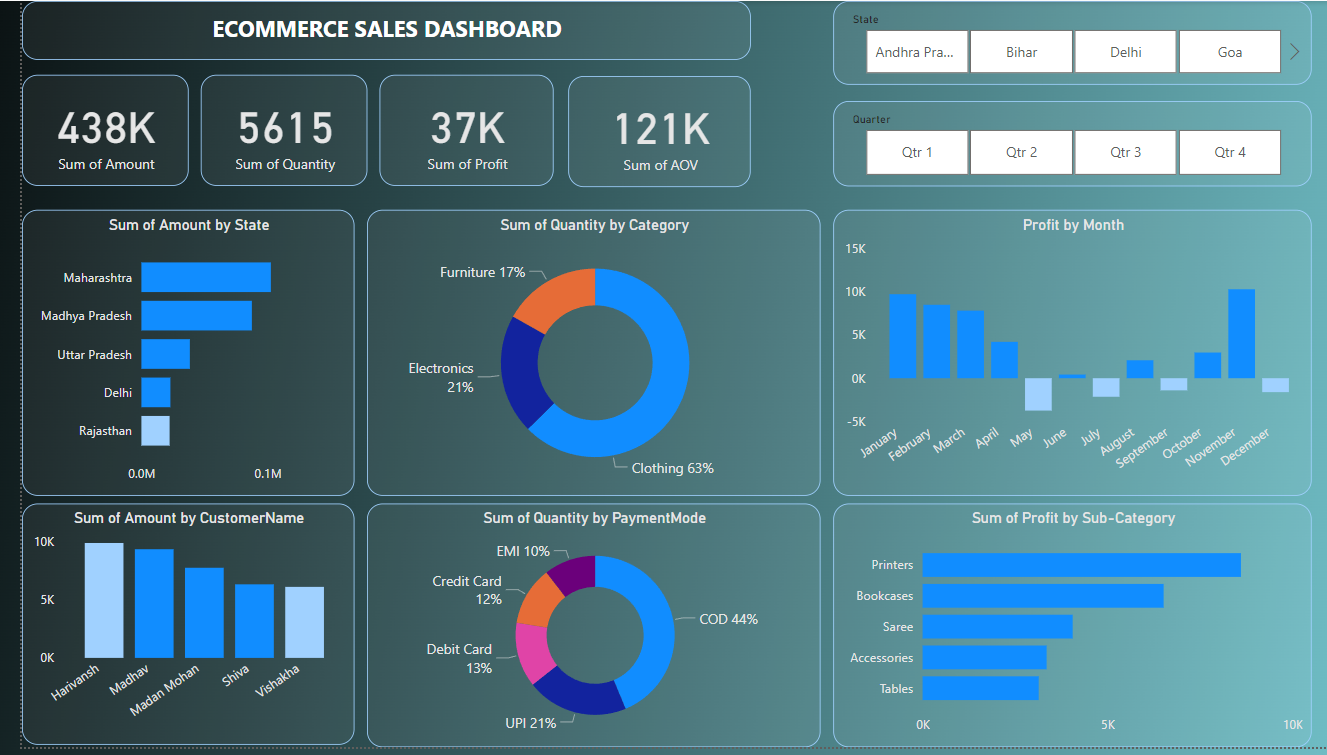

This screenshot's page, from the dashboard's own definition file:
{"tool":"powerbi","page":{"name":"Page 1","canvas":[1280,720],"ordinal":0},"visuals":[{"type":"textbox","box":[0,0,703.1,56.7],"z":0},{"type":"columnChart","title":"Profit by Month","fields":{"Y":["Details.Profit"],"Category":["Orders.Order Date.Variation.Date Hierarchy.Month"]},"box":[782.7,201.4,461.9,276.2],"z":1000},{"type":"barChart","fields":{"Category":["Details.Sub-Category"],"Y":["Details.Profit"]},"box":[782.7,484.8,461.9,235.2],"z":2000},{"type":"donutChart","fields":{"Category":["Details.Category"],"Y":["Details.Quantity"]},"box":[332.9,201.4,437.8,276.2],"z":3000},{"type":"donutChart","fields":{"Category":["Details.PaymentMode","Details.Category"],"Y":["Details.Quantity"]},"box":[332.9,484.8,437.8,235.2],"z":4000},{"type":"card","fields":{"Values":["Details.Amount"]},"box":[0,71.2,160.4,107.3],"z":5000},{"type":"card","fields":{"Values":["Details.Profit"]},"box":[344.9,71.2,167.6,107.3],"z":6000},{"type":"card","fields":{"Values":["Details.Quantity"]},"box":[172.5,71.2,160.4,107.3],"z":7000},{"type":"card","fields":{"Values":["Details.AOV"]},"box":[527,72.4,176.1,107.3],"z":8000},{"type":"barChart","fields":{"Category":["Orders.State"],"Y":["Details.Amount"]},"box":[0,201.4,320.8,276.2],"z":9000},{"type":"columnChart","fields":{"Category":["Orders.CustomerName"],"Y":["Details.Amount"]},"box":[0,484.8,320.8,232.8],"z":10000},{"type":"slicer","fields":{"Values":["Orders.Order Date.Variation.Date Hierarchy.Quarter"]},"box":[782.7,96.5,461.9,82],"z":11000},{"type":"slicer","fields":{"Values":["Orders.State"]},"box":[782.7,0,461.9,80.8],"z":12000}]}

Visuals, with their boxes in screenshot pixels (x1, y1, x2, y2), scaled from the page's 1280x720 canvas onto the 1327x755 screenshot:
textbox: 0, 0, 729, 59
"Profit by Month" columnChart: 811, 211, 1290, 501
barChart - Details.Sub-Category x Details.Profit: 811, 508, 1290, 754
donutChart - Details.Category x Details.Quantity: 345, 211, 799, 501
donutChart - Details.PaymentMode x Details.Category: 345, 508, 799, 754
card - Details.Amount: 0, 75, 166, 187
card - Details.Profit: 358, 75, 531, 187
card - Details.Quantity: 179, 75, 345, 187
card - Details.AOV: 546, 76, 729, 188
barChart - Orders.State x Details.Amount: 0, 211, 333, 501
columnChart - Orders.CustomerName x Details.Amount: 0, 508, 333, 752
slicer - Orders.Order Date.Variation.Date Hierarchy.Quarter: 811, 101, 1290, 187
slicer - Orders.State: 811, 0, 1290, 85
